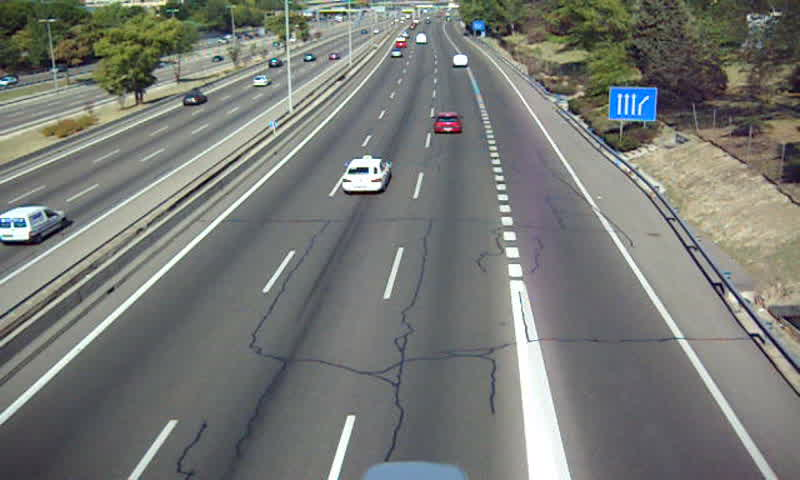car: (340, 157, 392, 192), (433, 111, 463, 134)
van: (452, 54, 467, 68)
